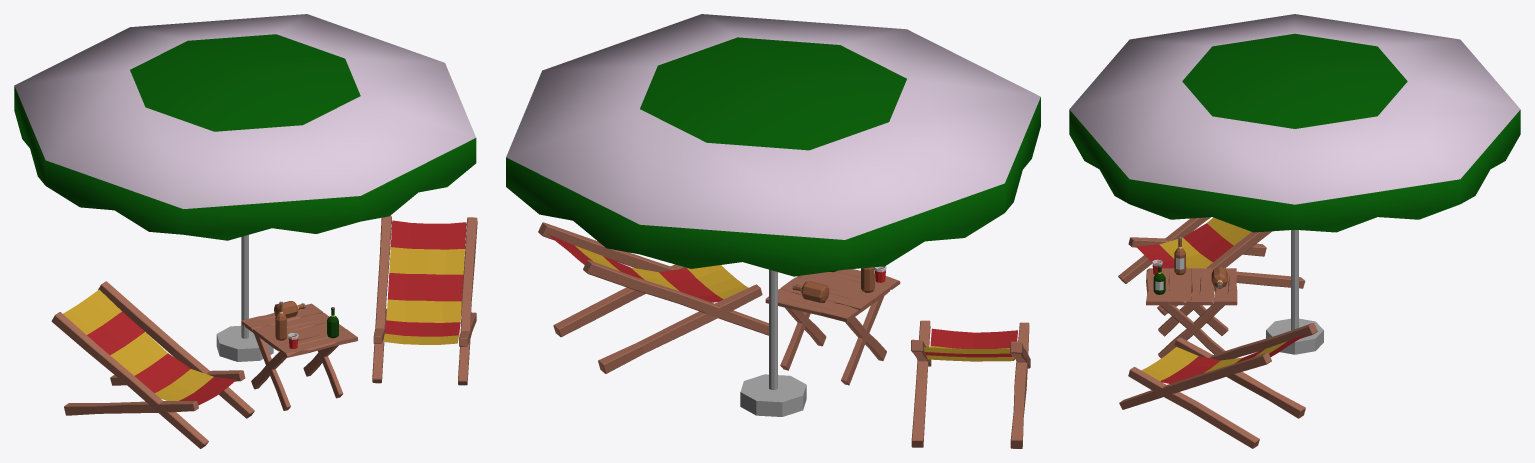
The model's file is umbrellaSdraioTable.gltf.
3 renders of one model, left to right at view 1: azimuth 30°, elevation 25°; view 2: azimuth 150°, elevation 25°; view 3: azimuth 270°, elevation 25°, orthographic. The views are drawn at different scales.
Parts seen in each view (by area): view 1: Plane.001, Cube.004, Cube.007, Cube.010, Cylinder.002, Cube.003, Cube.005; view 2: Plane.001, Cube.004, Cube.010, Cylinder.002, Cube.007, Cube.005, Cube.006, Cube.003, Cube.001, Cylinder; view 3: Plane.001, Cube.004, Cube.010, Cube.007, Cylinder.002, Cube.001, Cube.003, Cube.006, Cube.005.
Part boxes in pixels (<box>): Plane.001: <box>14,14,476,240</box>; Cube.004: <box>51,281,254,448</box>; Cube.007: <box>383,220,466,344</box>; Cube.010: <box>241,303,357,410</box>; Cylinder.002: <box>216,235,273,361</box>; Cube.003: <box>458,217,477,385</box>; Cube.005: <box>372,215,391,383</box>; Plane.001: <box>506,14,1040,276</box>; Cube.004: <box>911,320,1030,448</box>; Cube.010: <box>765,269,900,385</box>; Cylinder.002: <box>740,269,806,416</box>; Cube.007: <box>548,234,748,302</box>; Cube.005: <box>583,260,768,335</box>; Cube.006: <box>598,284,762,373</box>; Cube.003: <box>538,222,674,272</box>; Cube.001: <box>553,264,686,337</box>; Cylinder: <box>792,281,829,302</box>; Plane.001: <box>1069,14,1520,232</box>; Cube.004: <box>1118,217,1305,315</box>; Cube.010: <box>1146,268,1237,358</box>; Cube.007: <box>1141,332,1308,383</box>; Cylinder.002: <box>1266,230,1323,354</box>; Cube.001: <box>1128,367,1259,448</box>; Cube.003: <box>1119,352,1271,409</box>; Cube.006: <box>1174,337,1305,418</box>; Cube.005: <box>1209,323,1317,360</box>.
Size of the model in its own units: 8.98 by 5.87 by 8.51.
